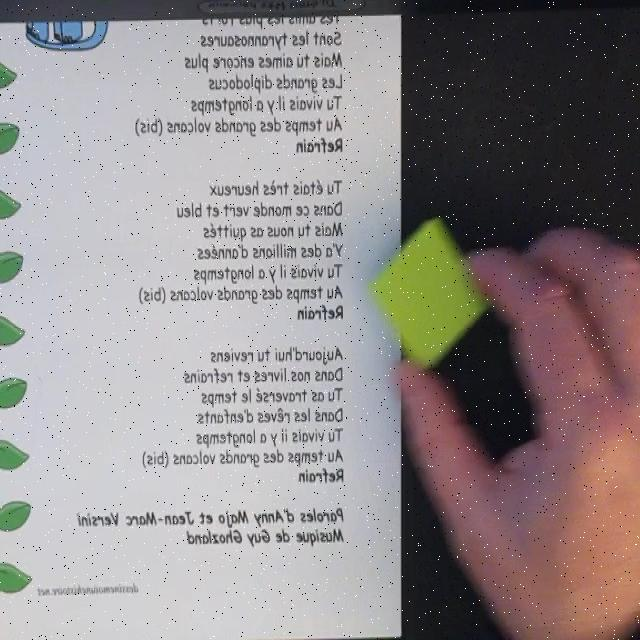square: (367, 219, 490, 370)
